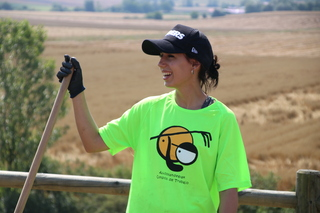person: (112, 21, 258, 194)
